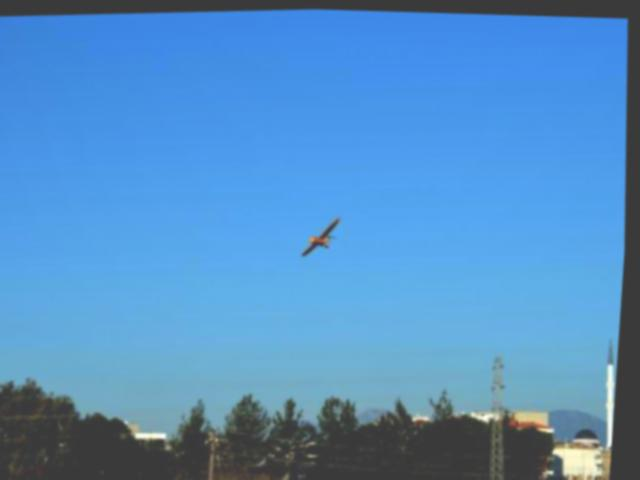iha: (305, 216, 343, 255)
